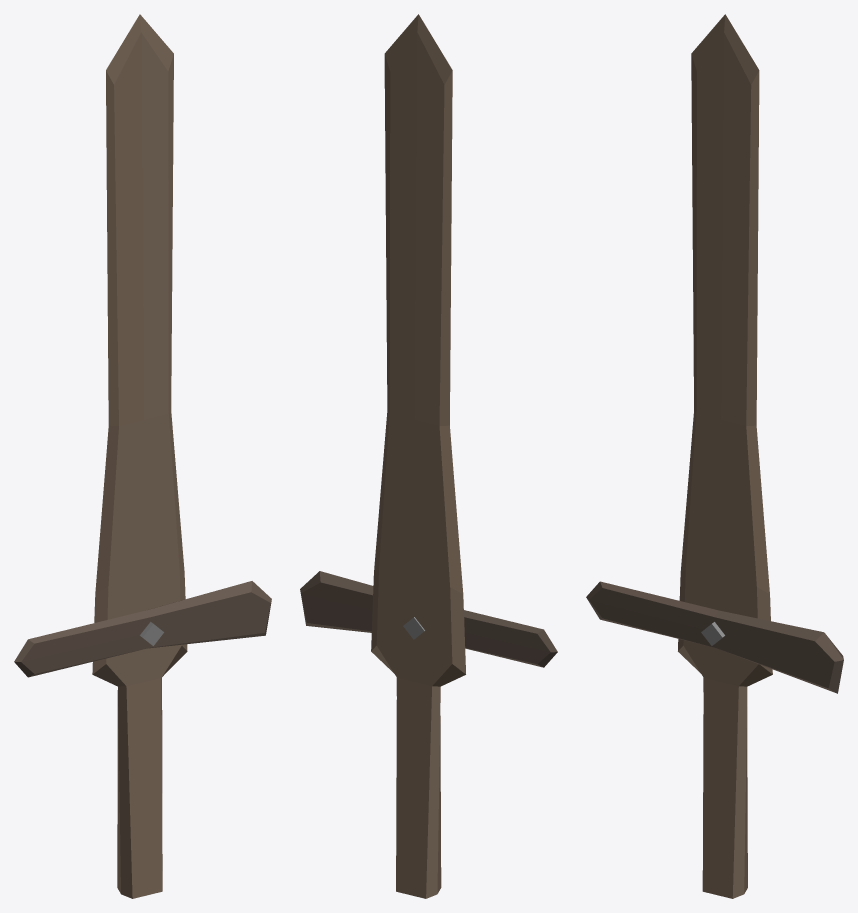
The model's file is Sword_10.fbx.
The picture shows the model from 3 angles, left to right: view 1: azimuth 30°, elevation 25°; view 2: azimuth 150°, elevation 25°; view 3: azimuth 330°, elevation 25°; orthographic projection.
Parts seen in each view (by area): view 1: polySurface497; view 2: polySurface497; view 3: polySurface497.
Part boxes in pixels (box(x1,y1,x2,y2)): polySurface497: box(14, 14, 271, 898); polySurface497: box(300, 14, 557, 898); polySurface497: box(586, 14, 843, 898).
Size of the model in its own units: 84.09 by 274 by 11.96.
